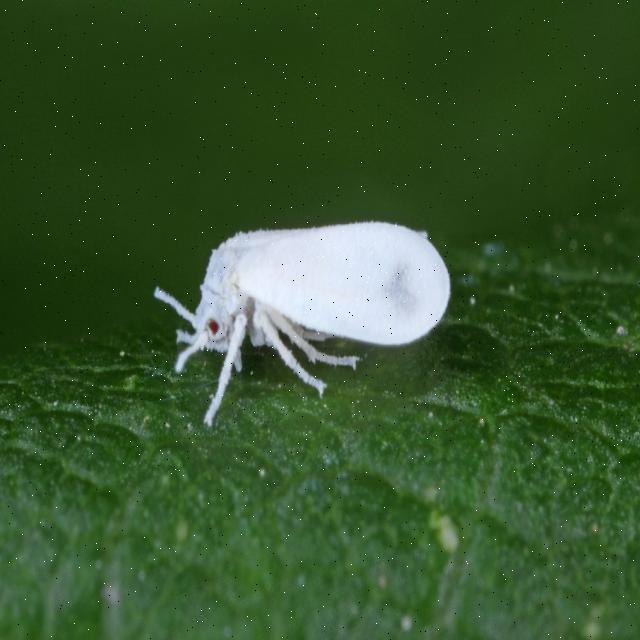Whiteflies: (122, 147, 499, 440)
